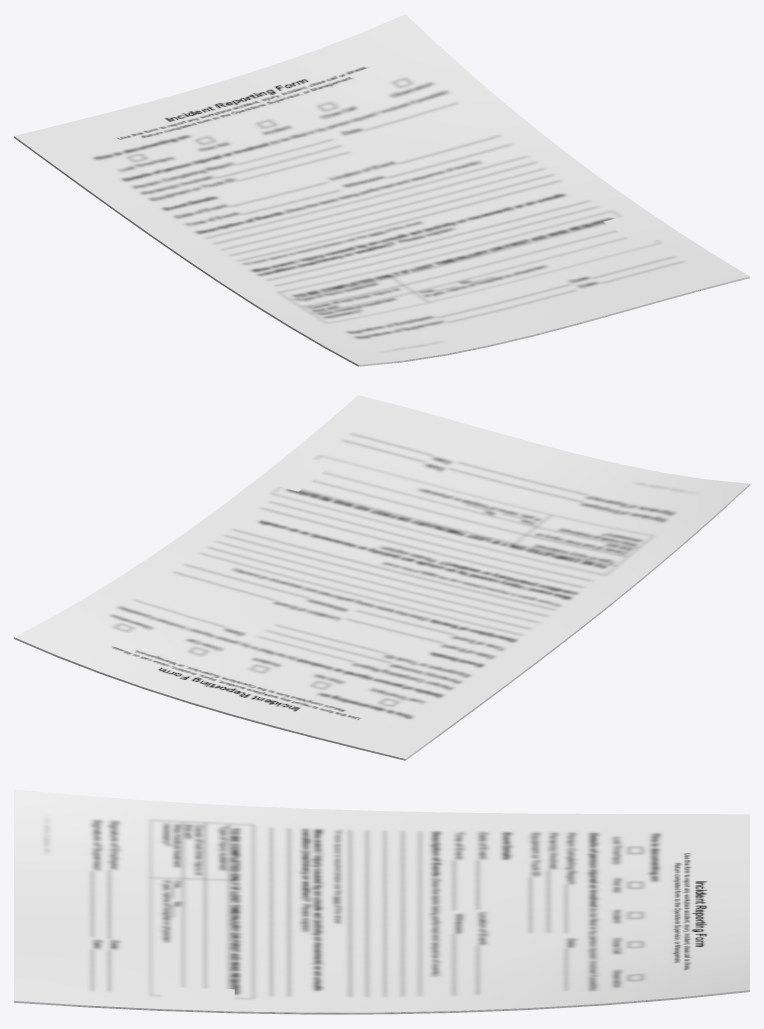
The model's file is Paper 1.FBX.
The picture shows the model from 3 angles, top to bottom: view 1: azimuth 30°, elevation 25°; view 2: azimuth 150°, elevation 25°; view 3: azimuth 270°, elevation 25°; orthographic projection. The views are drawn at different scales.
Parts seen in each view (by area): view 1: Paper 1; view 2: Paper 1; view 3: Paper 1.
Part boxes in pixels (left/top/right/bottom): Paper 1: left=14, top=14, right=749, bottom=366; Paper 1: left=14, top=395, right=749, bottom=760; Paper 1: left=14, top=789, right=749, bottom=1014.
Bounding box in the file's own units: 21.15 × 1.45 × 32.23.
1 material, 1 textured.
